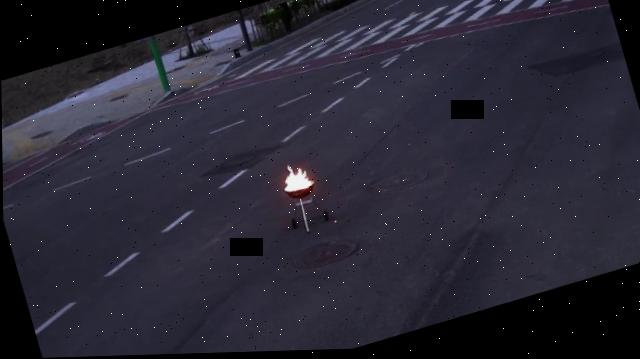fire: (276, 158, 315, 196)
